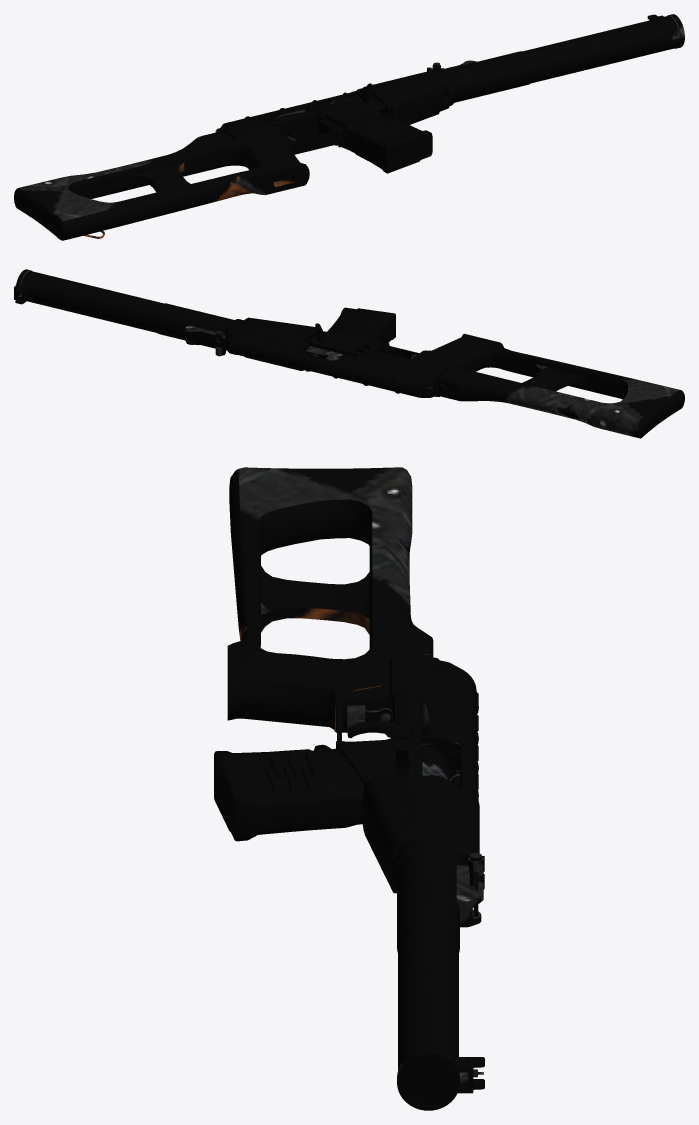
The model's file is vss.obj.
The picture shows the model from 3 angles, top to bottom: view 1: azimuth 30°, elevation 25°; view 2: azimuth 150°, elevation 25°; view 3: azimuth 270°, elevation 25°; orthographic projection. The views are drawn at different scales.
Parts seen in each view (by area): view 1: gunModel, ammoModel; view 2: gunModel, ammoModel, slideModel; view 3: gunModel, ammoModel, slideModel.
Part boxes in pixels (x1,y1,x2,y2): gunModel: (14,14,684,240); ammoModel: (339,111,432,173); gunModel: (14,269,684,438); ammoModel: (327,307,395,344); slideModel: (306,323,355,364); gunModel: (227,467,484,1110); ammoModel: (214,748,364,841); slideModel: (396,745,448,779).
Bounding box in the file's own units: 38.64 × 2.54 × 7.41.
